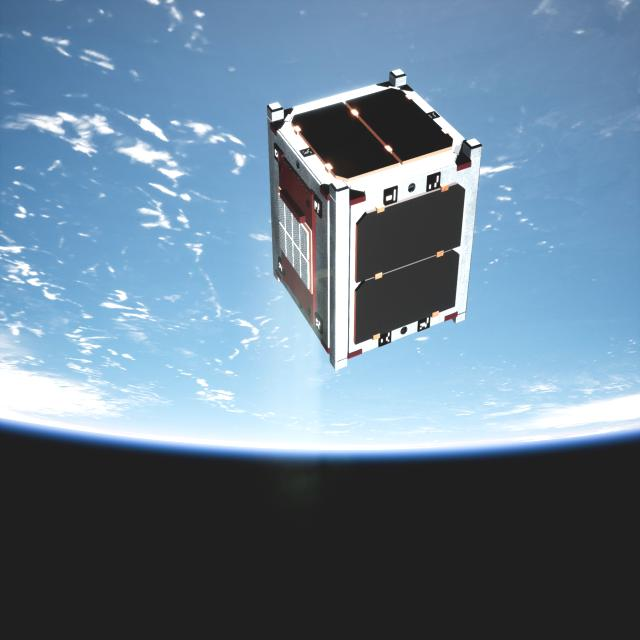medium_debris: (262, 70, 488, 364)
